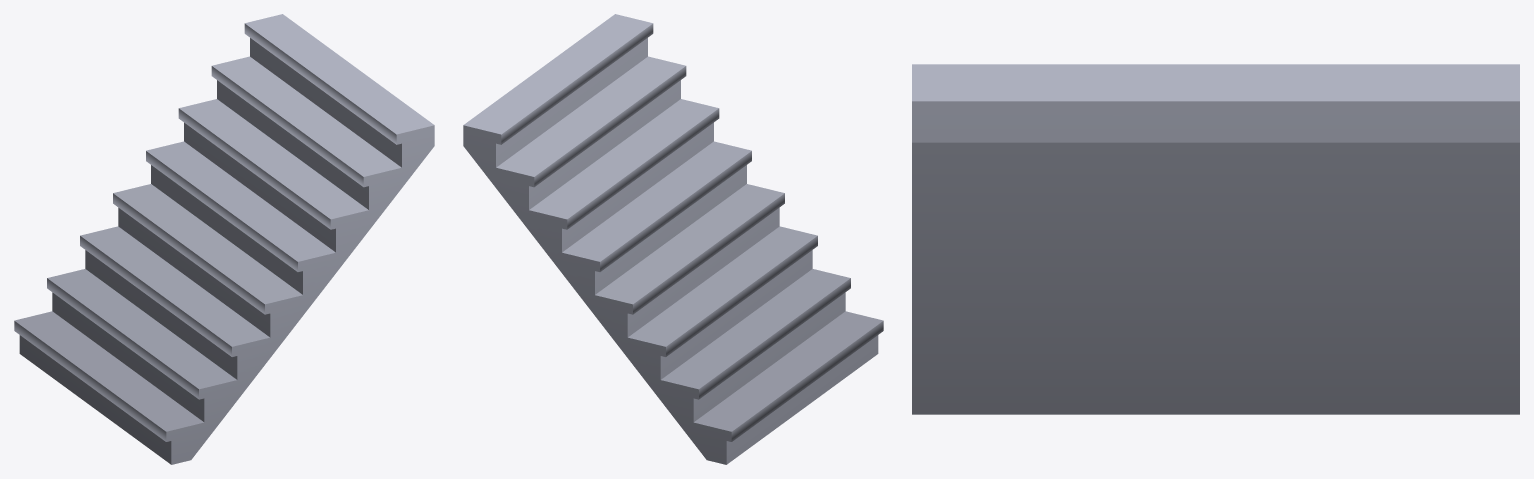
Rendered from stairs-wide-stone.glb.
3 renders of one model, left to right at view 1: azimuth 30°, elevation 25°; view 2: azimuth 150°, elevation 25°; view 3: azimuth 270°, elevation 25°, orthographic. The views are drawn at different scales.
Parts seen in each view (by area): view 1: stairs-wide-stone; view 2: stairs-wide-stone; view 3: stairs-wide-stone.
Boxes of the visible parts, x1,y1,x2,y2 form: stairs-wide-stone: (14,14,434,464); stairs-wide-stone: (463,14,883,464); stairs-wide-stone: (912,64,1519,414).
Size of the model in its own units: 1.02 by 1 by 1.
